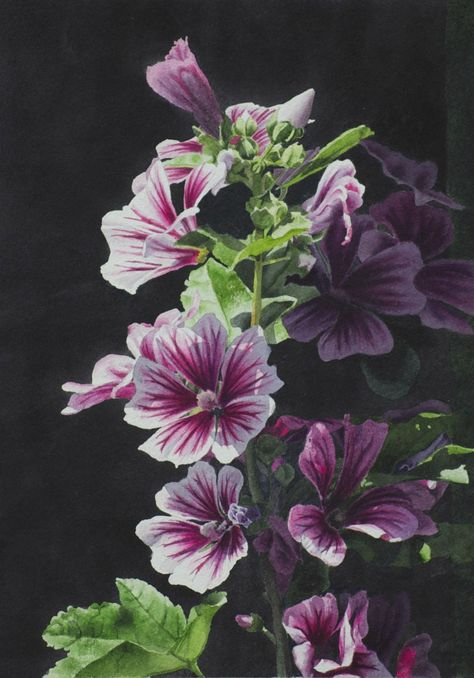Hibiscus: (253, 136, 466, 377), (282, 402, 441, 572), (148, 41, 318, 193), (125, 318, 291, 473), (261, 550, 419, 678), (95, 168, 239, 302), (128, 479, 262, 605), (64, 334, 161, 420)
